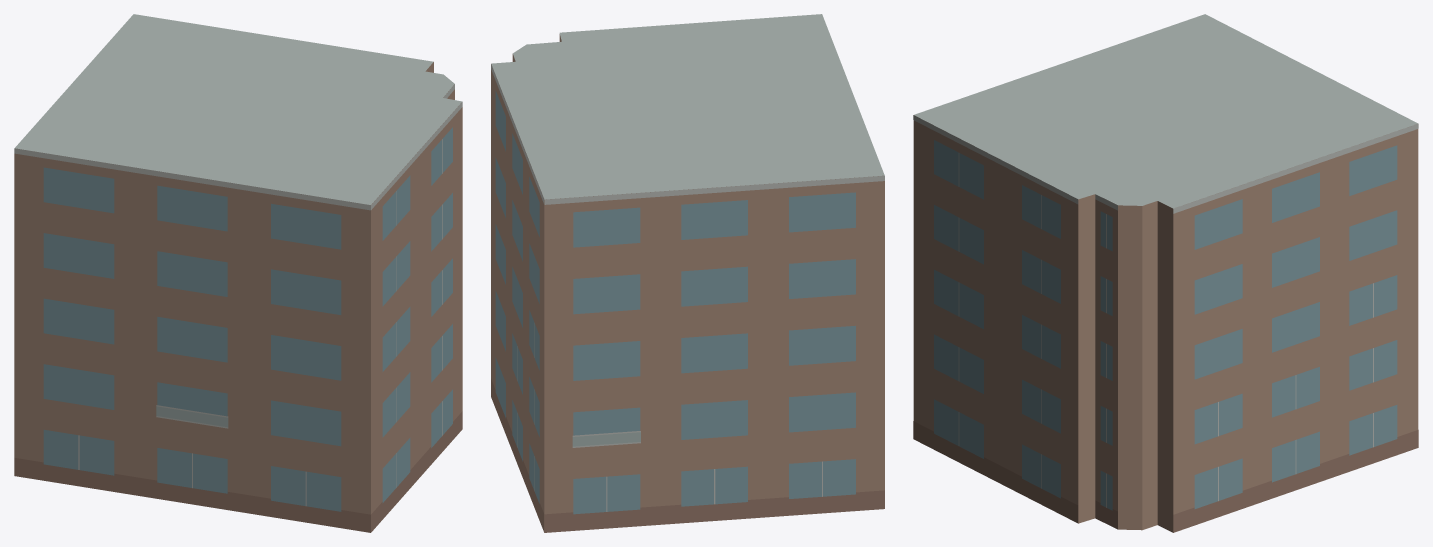
Rendered from survey-upis-32840992.glb.
3 views of the same model, side by side, from view 1: azimuth 30°, elevation 25°; view 2: azimuth 150°, elevation 25°; view 3: azimuth 270°, elevation 25° (orthographic). The views are drawn at different scales.
Visible parts, largest first — view 1: survey-upis-32840992.tmp; view 2: survey-upis-32840992.tmp; view 3: survey-upis-32840992.tmp.
Part boxes in pixels (x1,y1,x2,y2): survey-upis-32840992.tmp: [14, 14, 462, 532]; survey-upis-32840992.tmp: [491, 14, 884, 532]; survey-upis-32840992.tmp: [913, 14, 1418, 532].
Bounding box in the file's own units: 19.45 × 15.1 × 21.32.
